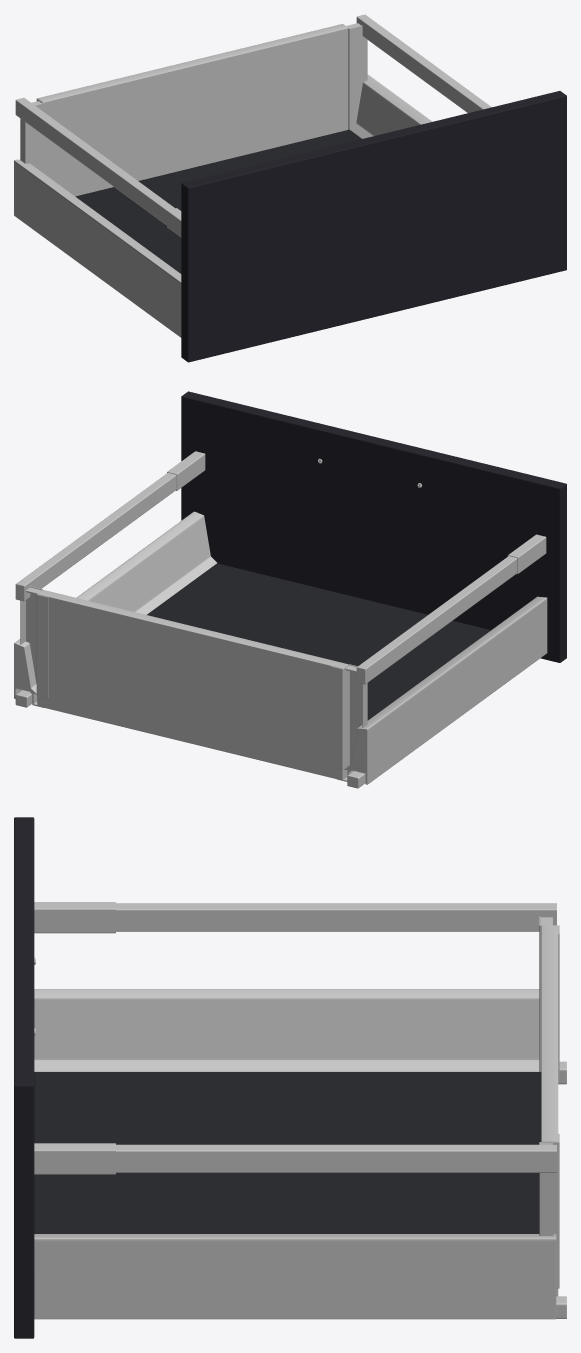
The model's file is SM_Kitchen_05_Drawer_02.dae.
The picture shows the model from 3 angles, top to bottom: view 1: azimuth 30°, elevation 25°; view 2: azimuth 150°, elevation 25°; view 3: azimuth 270°, elevation 25°; orthographic projection. The views are drawn at different scales.
Visible parts, largest first — view 1: SM_Kitchen_05_Base_Drawer_02; view 2: SM_Kitchen_05_Base_Drawer_02; view 3: SM_Kitchen_05_Base_Drawer_02.
Boxes of the visible parts, x1,y1,x2,y2 form: SM_Kitchen_05_Base_Drawer_02: [14, 14, 566, 362]; SM_Kitchen_05_Base_Drawer_02: [14, 391, 566, 788]; SM_Kitchen_05_Base_Drawer_02: [14, 817, 566, 1338].
Bounding box in the file's own units: 0.5969 × 0.5199 × 0.263.
